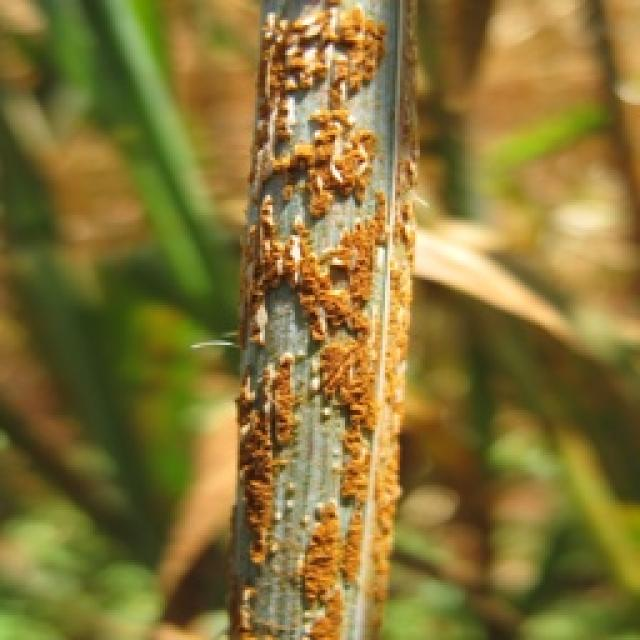Black Rust: (220, 0, 420, 638)
